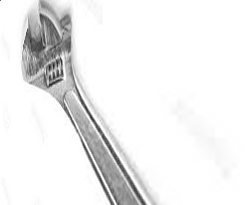Wrench: (13, 5, 157, 205)
